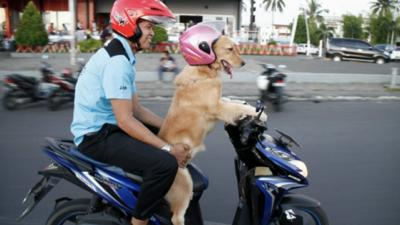With Helmet: (112, 0, 172, 51)
